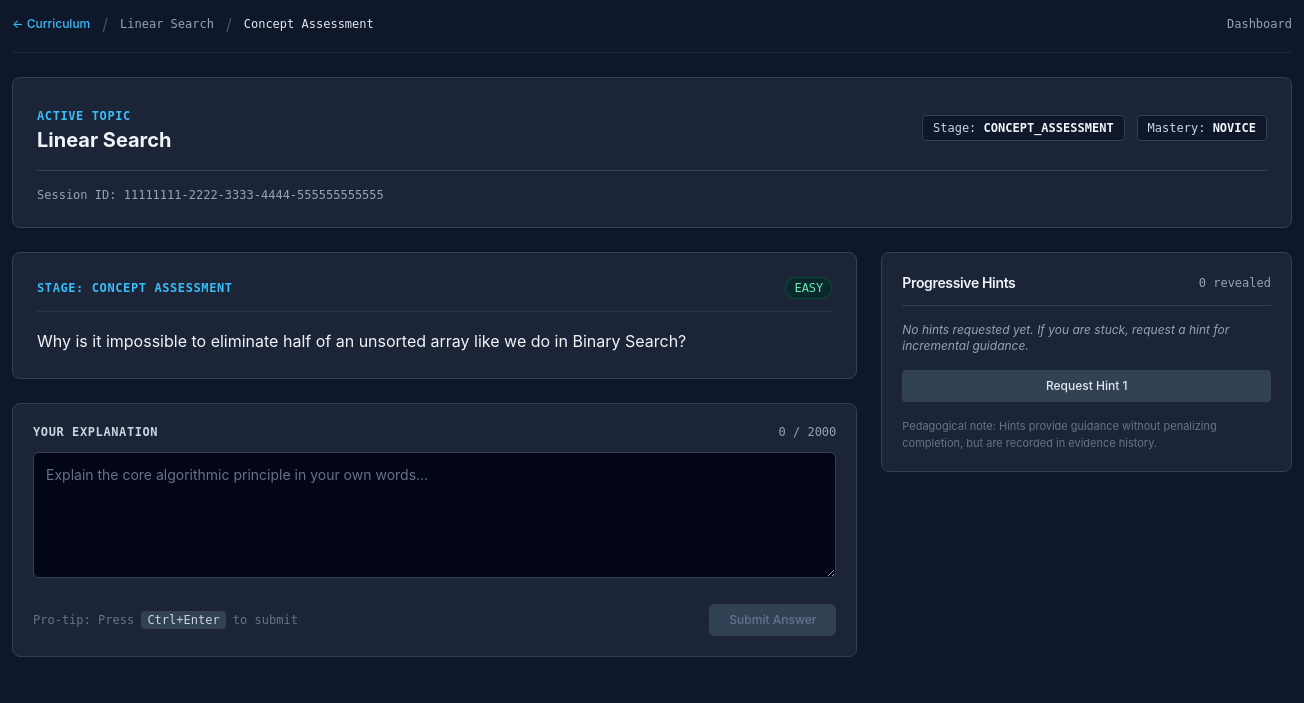
Test: LearningWorkspace Component › displays FAIL evaluation with detected misconception badge
expect the element with test id "active-workspace" is shown: met, box [12,252,1292,657]
Type "Incomplete explanation" into the text box labelled "Your Explanation".
click(435, 515); type("Incomplete explanation")  # box [33,452,836,578]
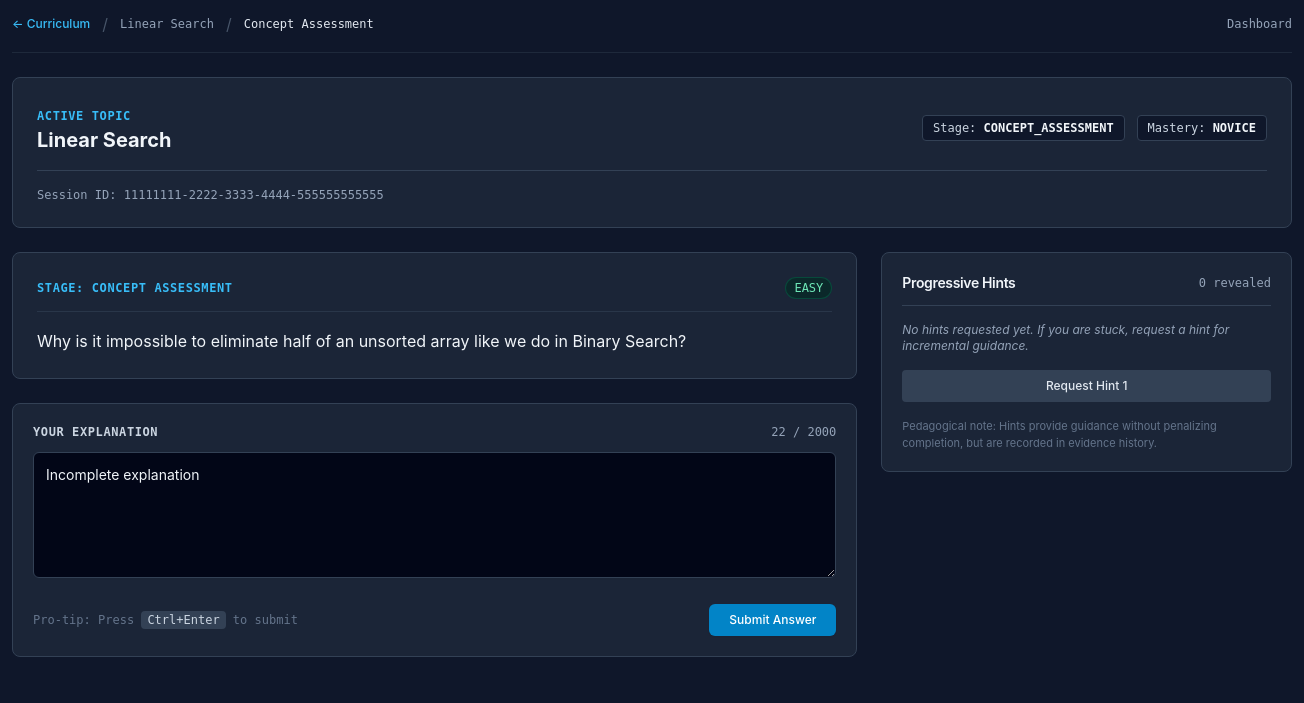
Click the button with test id "btn-submit-answer".
click(773, 620)  # box [709,604,836,636]
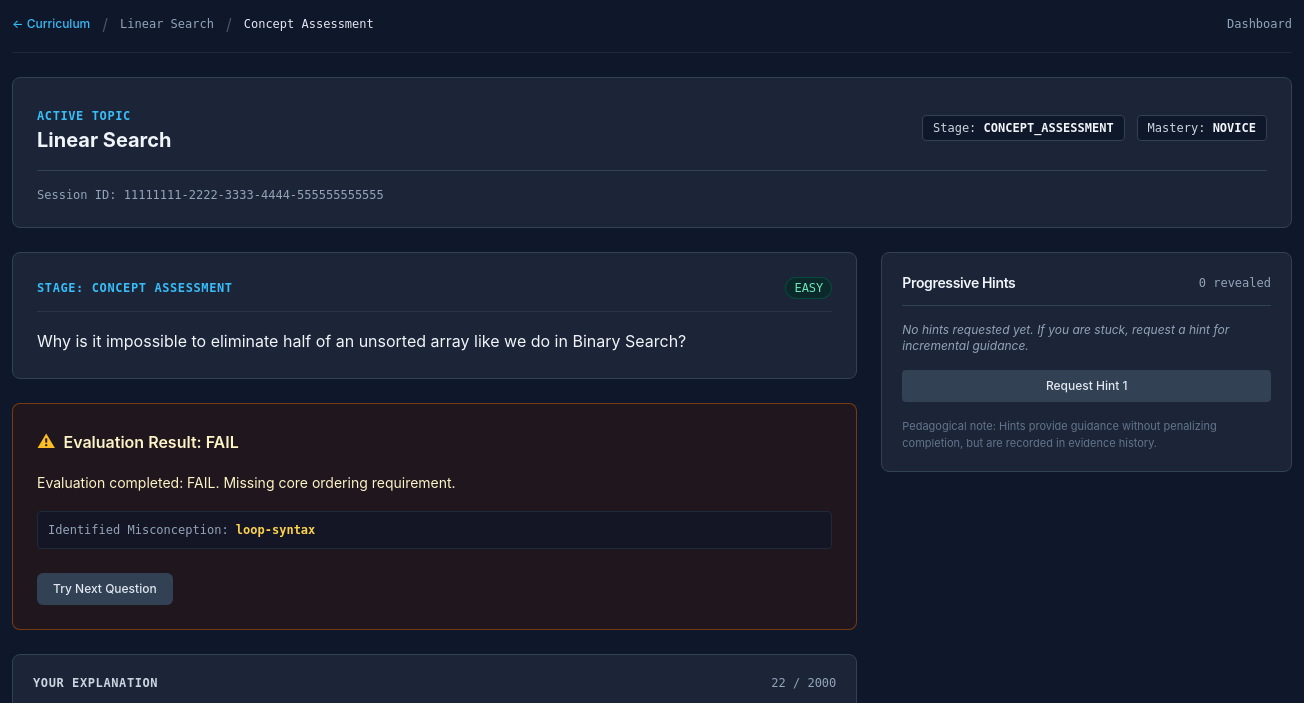
expect the message with test id "evaluation-feedback" is shown: met, box [12,403,857,630]
expect the heading "Evaluation Result: FAIL" is shown: met, box [64,430,239,454]
expect the text "loop-syntax" is shown: met, box [236,523,315,537]
